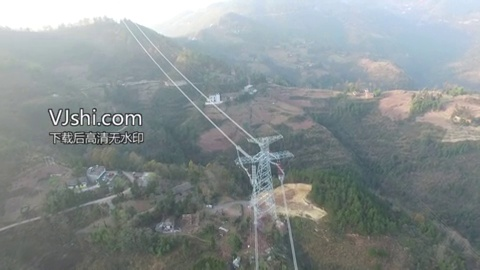tower_body: (234, 127, 293, 229)
tower_foot: (249, 189, 278, 226)
tower_head: (244, 131, 286, 148)
